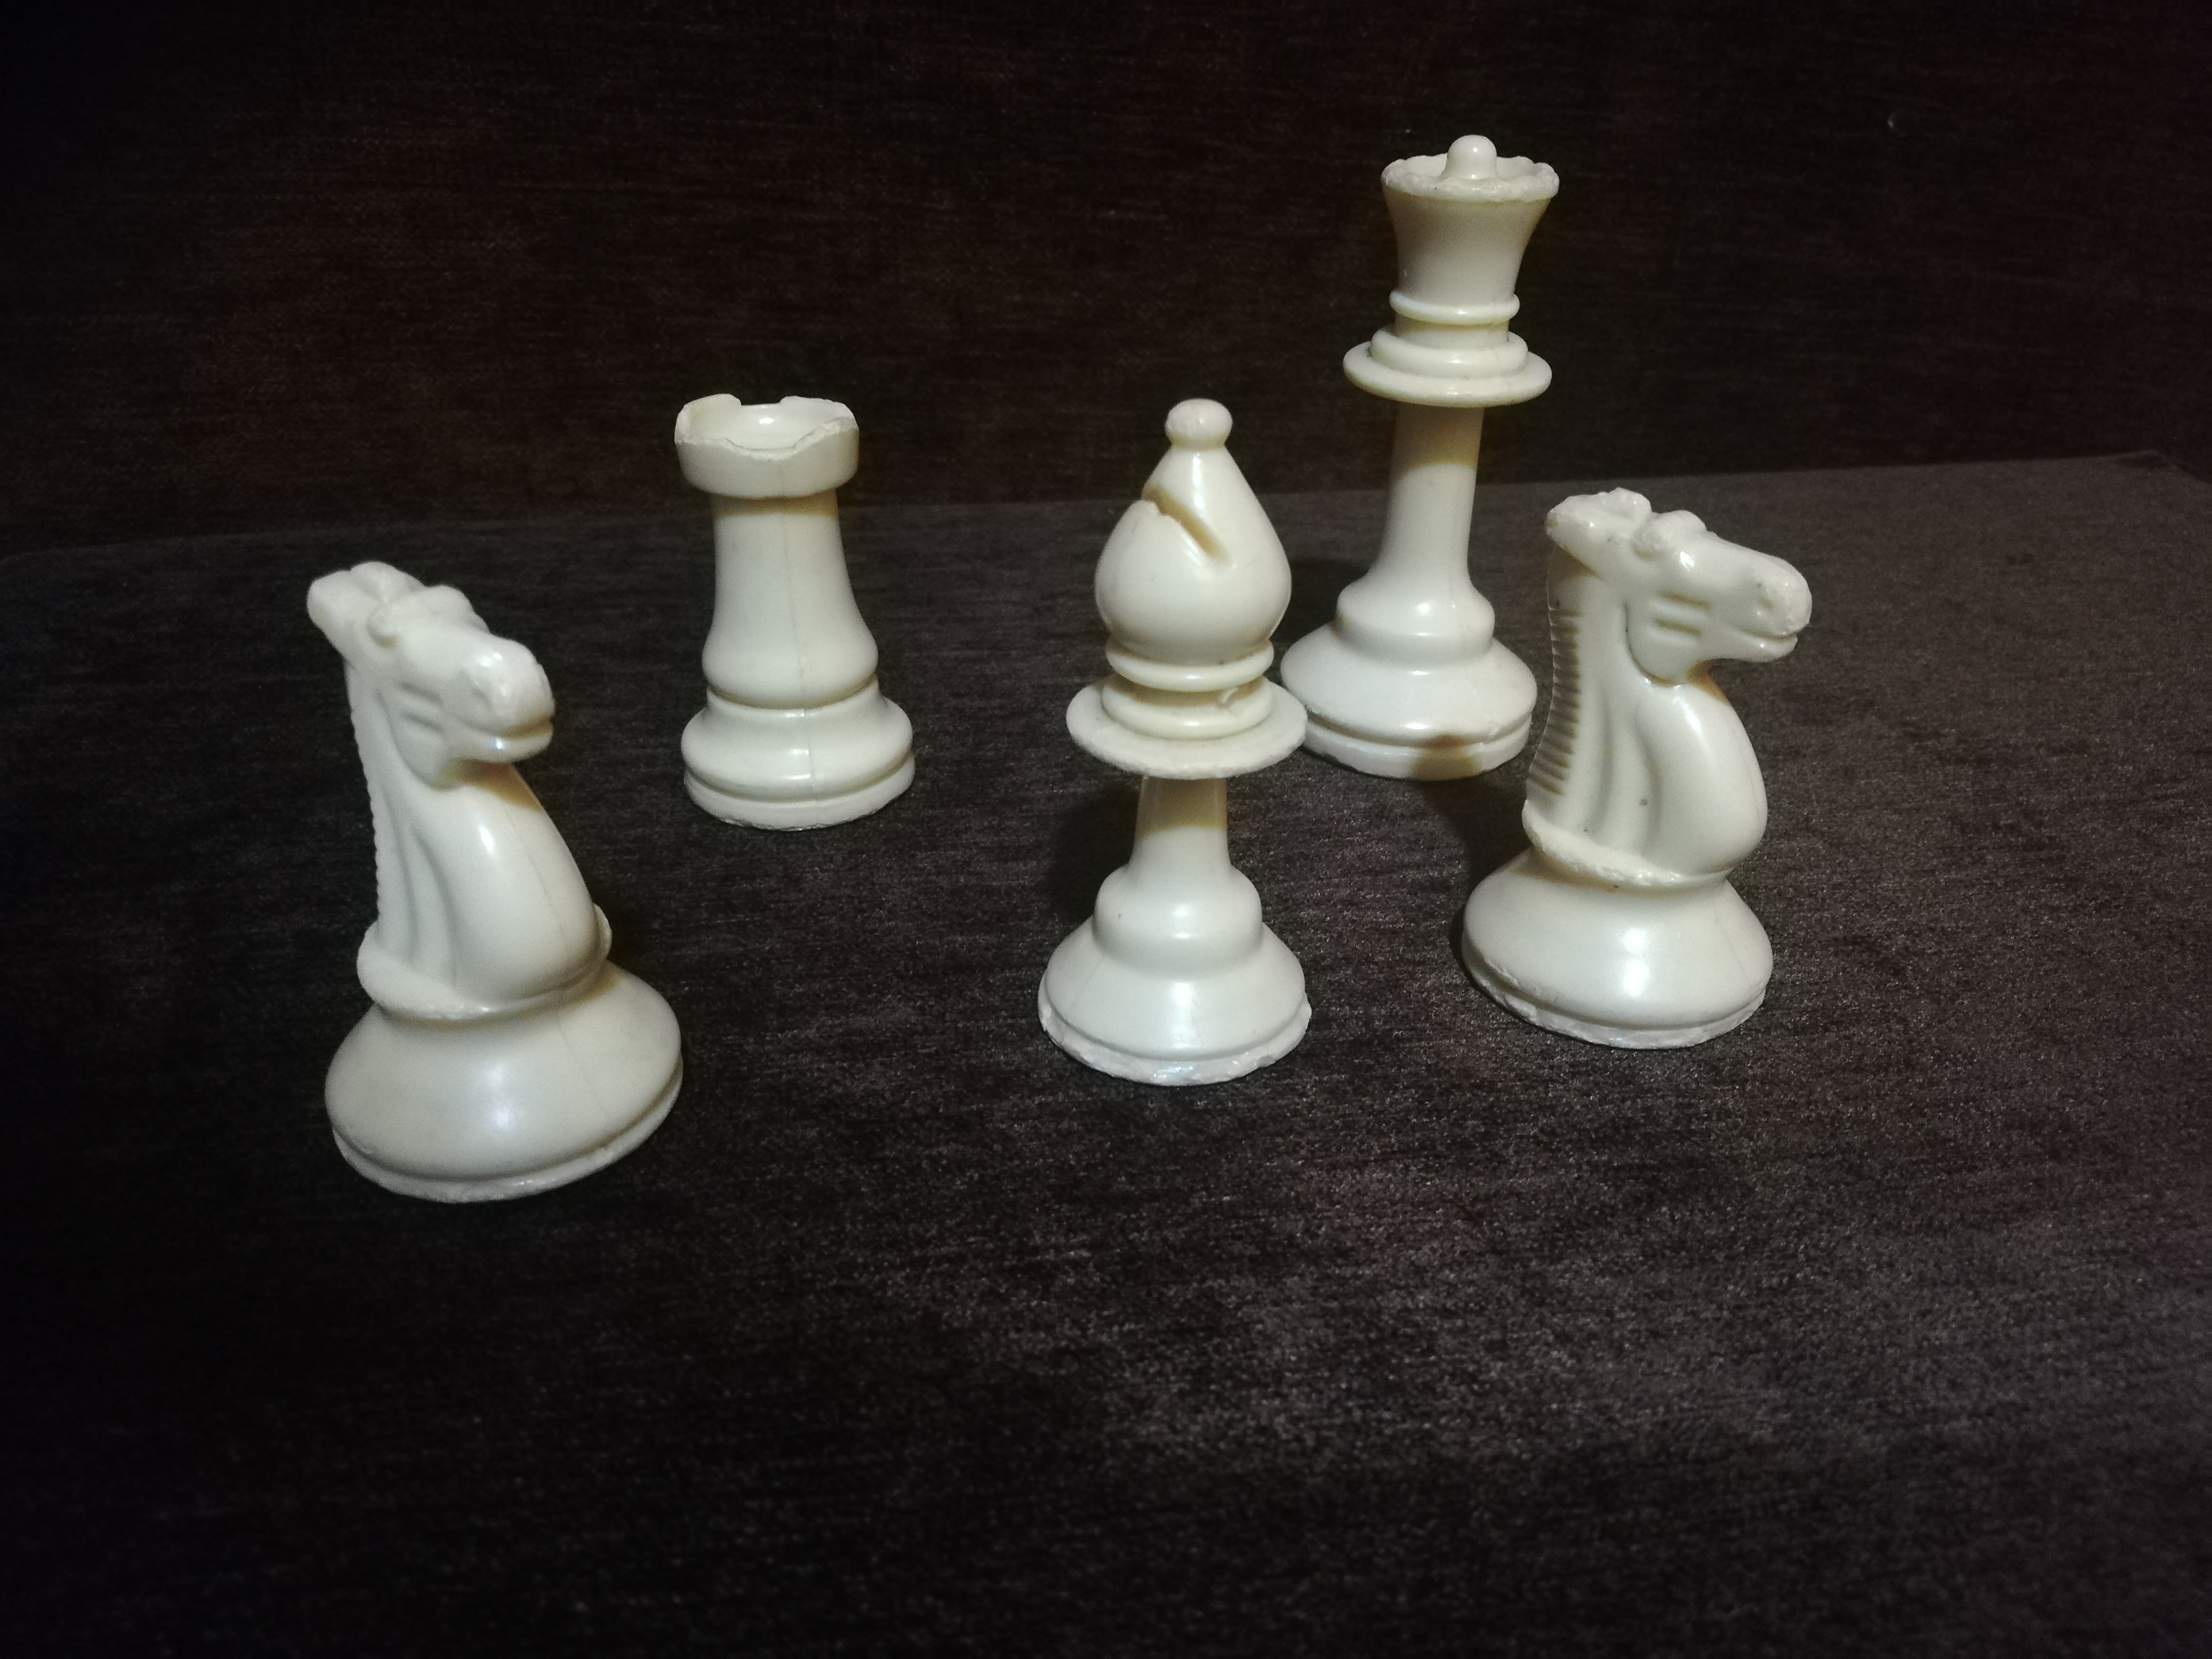Bishop: (1037, 397, 1323, 1083)
Knight: (253, 555, 692, 1202), (1489, 456, 1782, 1055)
Queen: (1298, 134, 1535, 757)
Rook: (649, 380, 945, 833)
